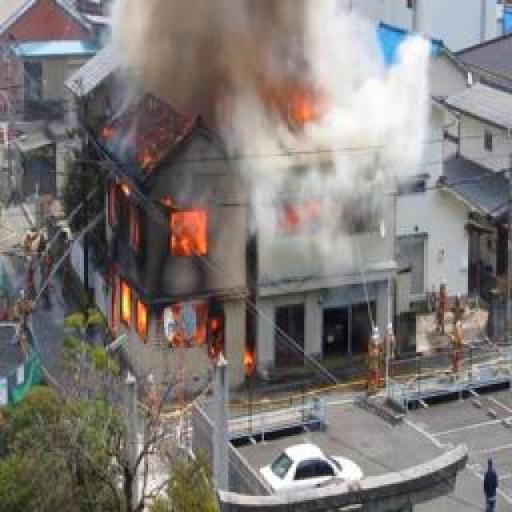smoke: (66, 122, 266, 376)
